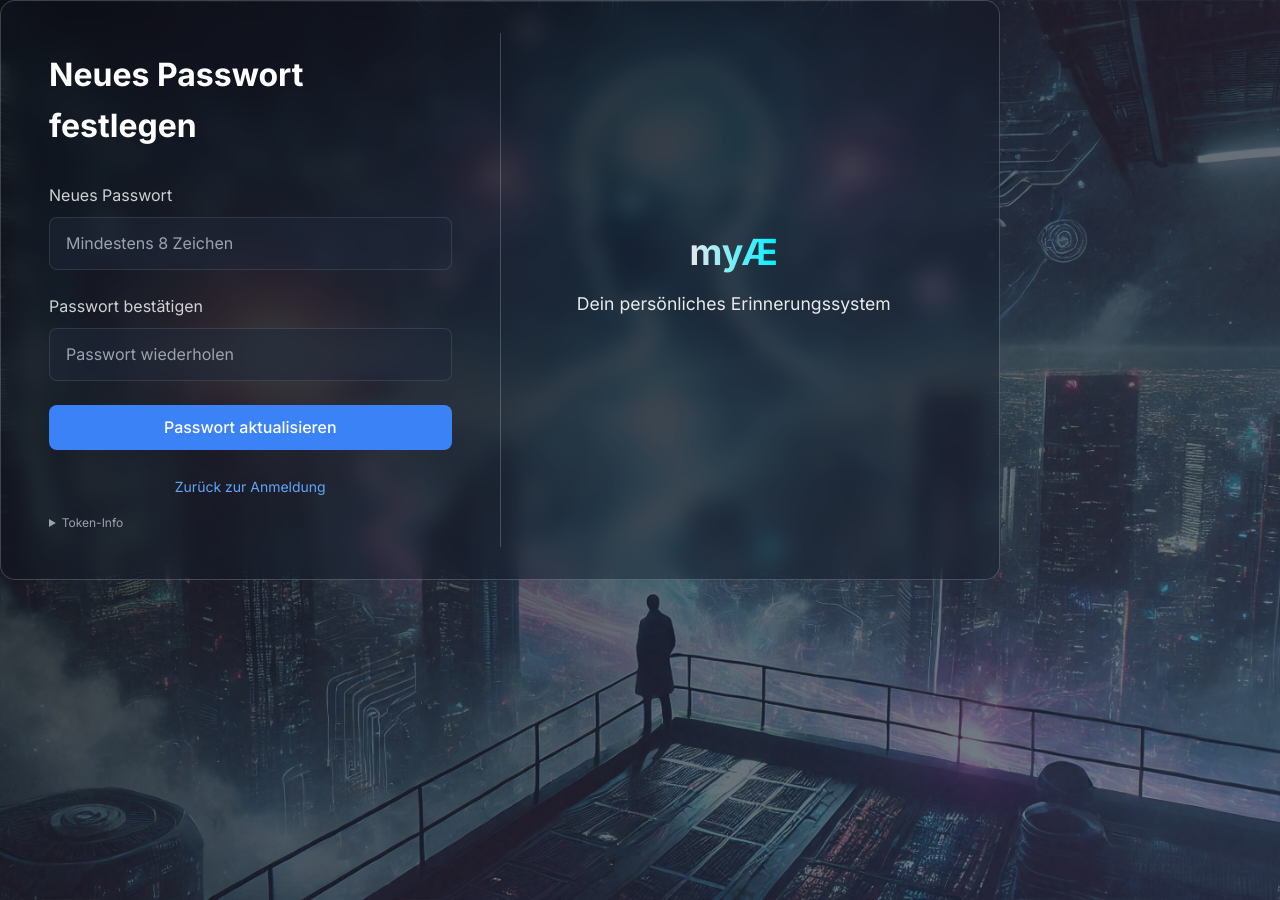
Test case: UpdatePasswordForm › fängt netzwerkfehler ab
The width and height of the screenshot is (1280, 900).
Gültiges Passwort eingeben
Type "neuesPasswort123" into the password field labelled "Neues Passwort". click: {"x": 250, "y": 244}
box: [49,217,452,270]
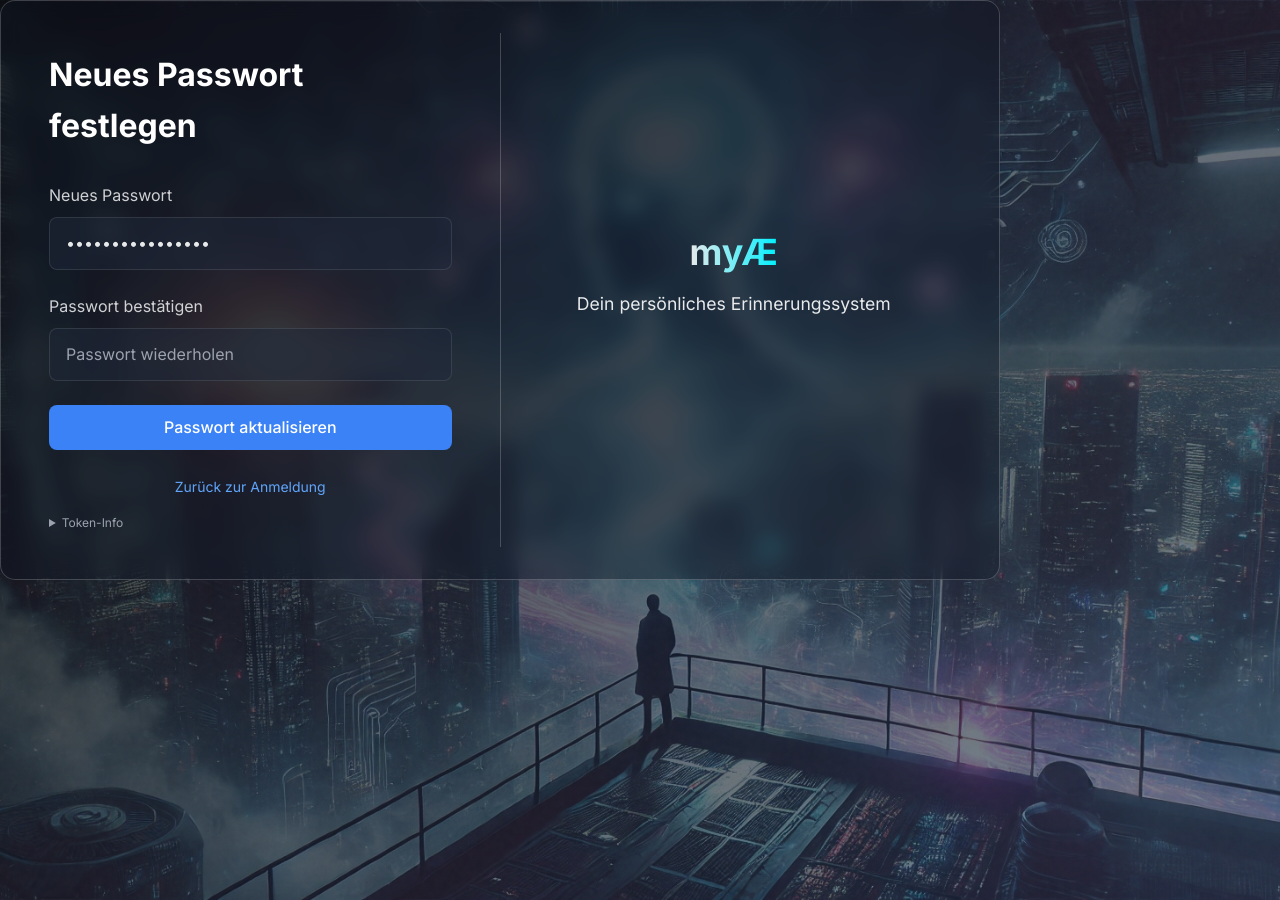
Type "neuesPasswort123" into the password field labelled "Passwort bestätigen". click: {"x": 250, "y": 354}
box: [49,328,452,381]
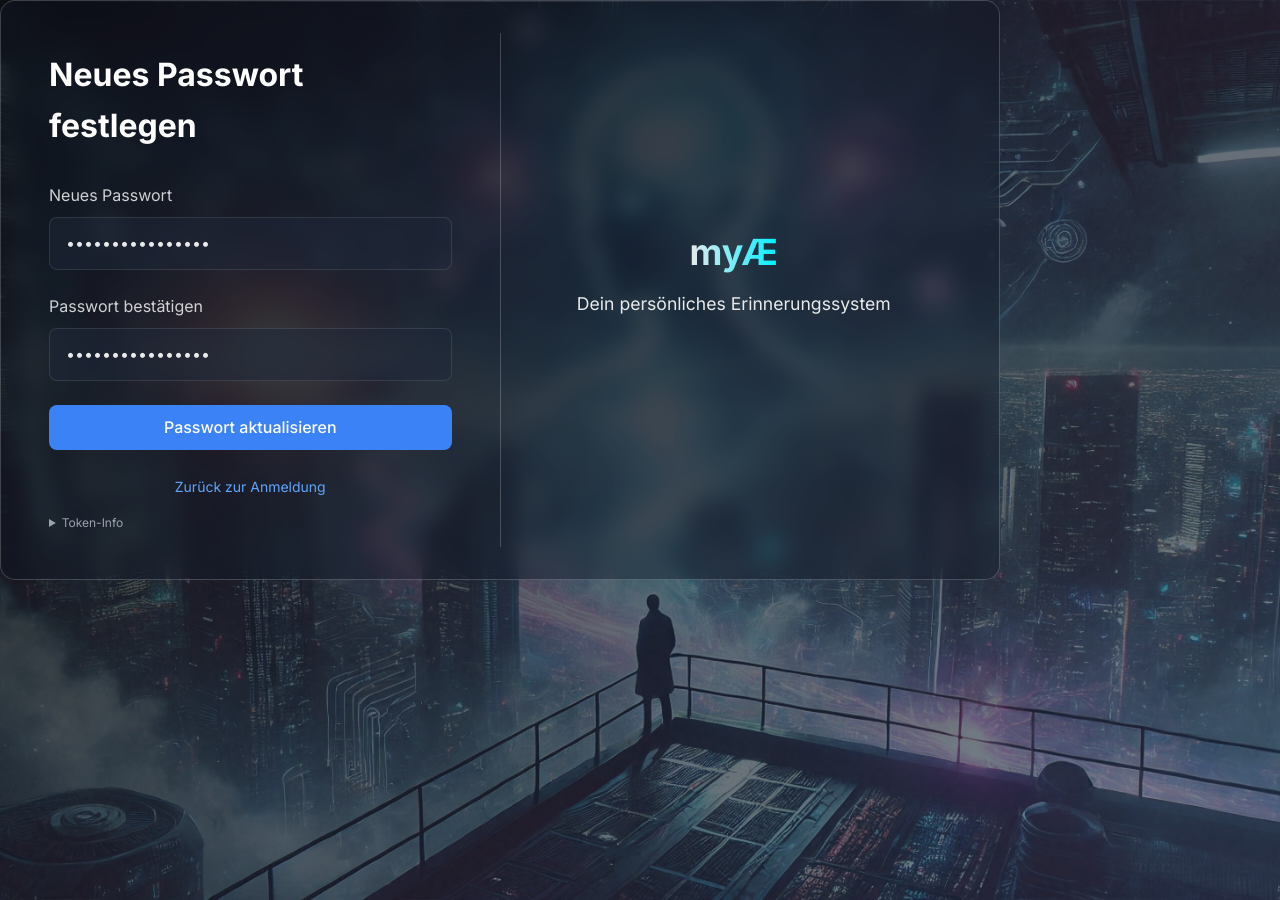
Formular absenden
Click the button "Passwort aktualisieren". click: {"x": 250, "y": 427}
box: [49,405,452,450]
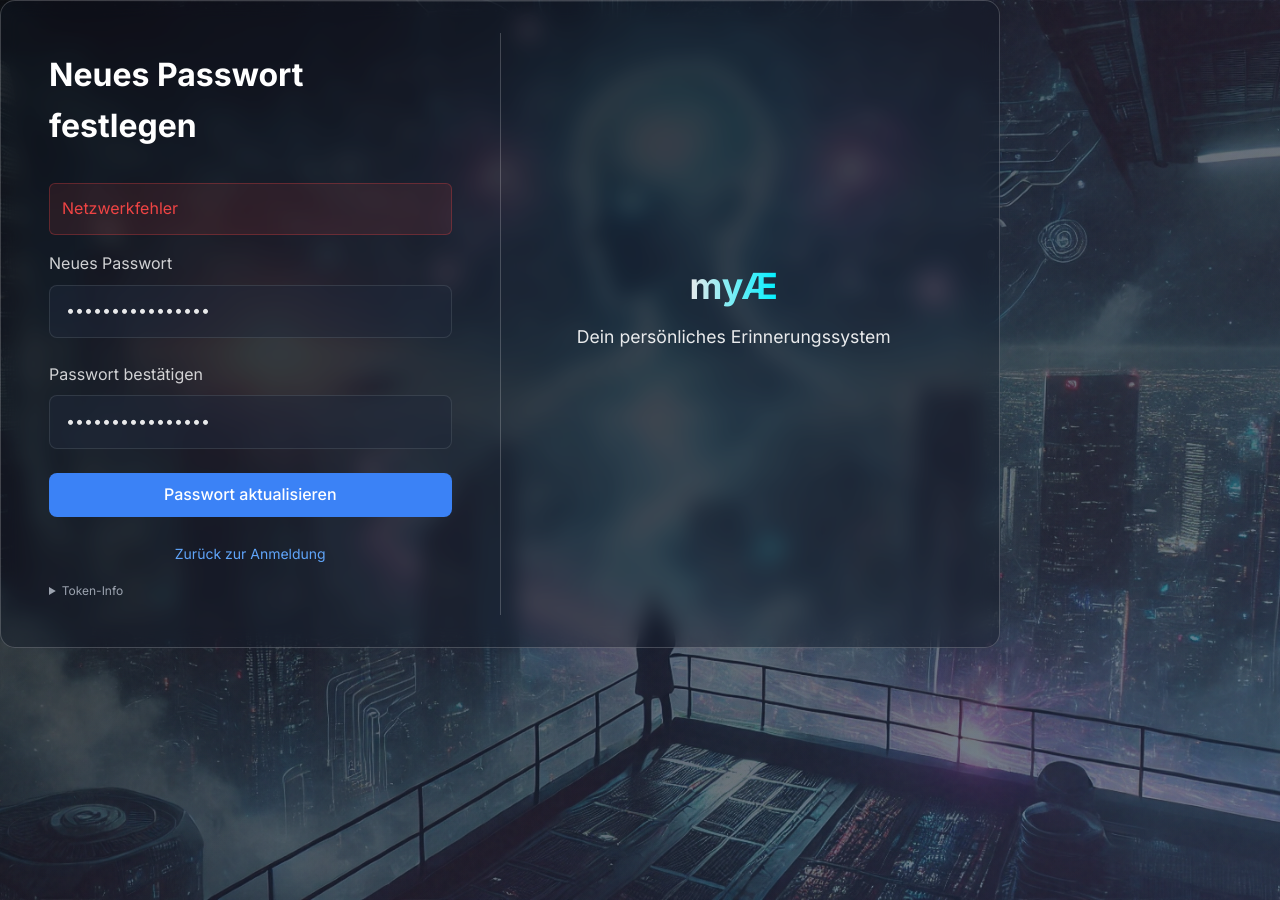
Expected: the text "Netzwerkfehler" is shown, [49,183,452,235]
